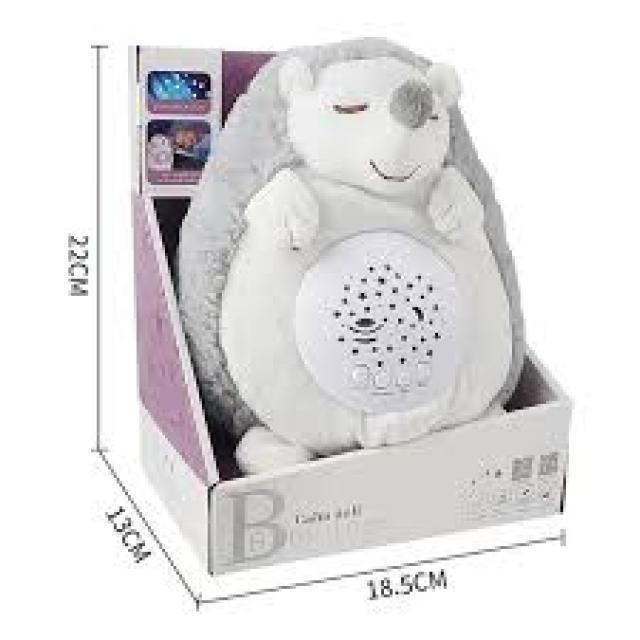soft-toy: (179, 40, 525, 480)
